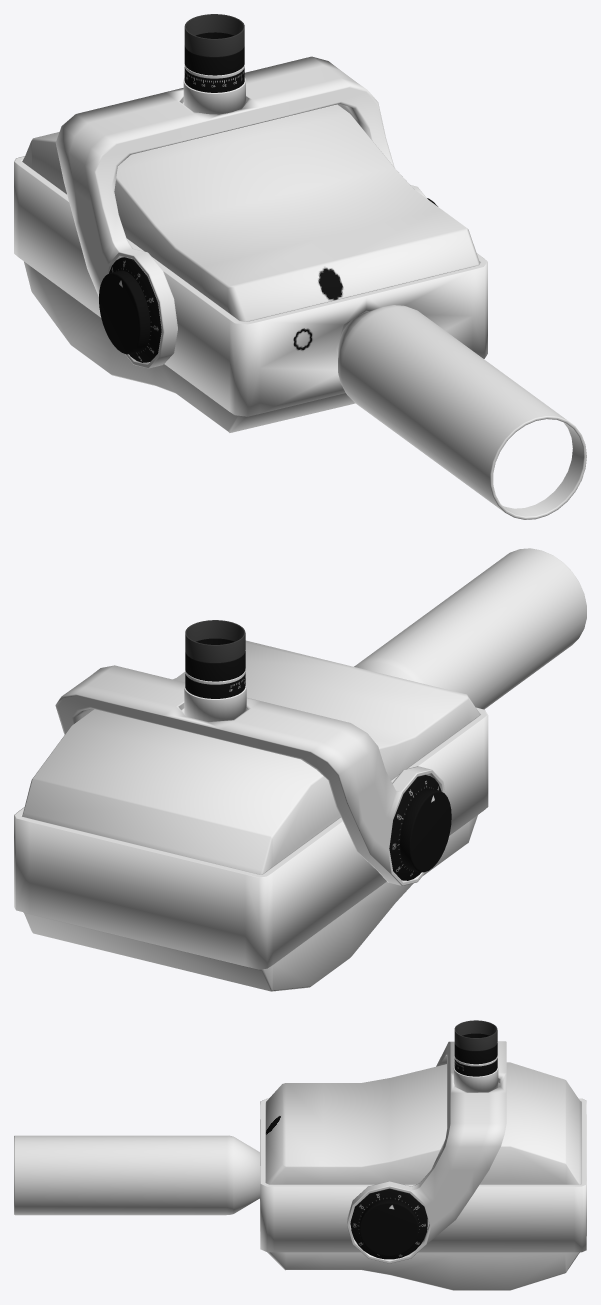
The model's file is x_ray.gltf.
3 renders of one model, top to bottom at view 1: azimuth 30°, elevation 25°; view 2: azimuth 150°, elevation 25°; view 3: azimuth 270°, elevation 25°, orthographic. The views are drawn at different scales.
Parts seen in each view (by area): view 1: hainuo_dental_xray_unit_fixer7, hainuo_dental_xray_unit_fixer10, hainuo_dental_xray_unit_fixer11, hainuo_dental_xray_unit_fixer9, hainuo_dental_xray_unit_regulator2, hainuo_dental_xray_unit_fixer13, hainuo_dental_xray_unit_fixer14, hainuo_dental_xray_unit_fixer13.1; view 2: hainuo_dental_xray_unit_fixer7, hainuo_dental_xray_unit_fixer10, hainuo_dental_xray_unit_fixer11, hainuo_dental_xray_unit_fixer9, hainuo_dental_xray_unit_regulator2, hainuo_dental_xray_unit_fixer13, hainuo_dental_xray_unit_fixer14, hainuo_dental_xray_unit_fixer13.1; view 3: hainuo_dental_xray_unit_fixer7, hainuo_dental_xray_unit_fixer11, hainuo_dental_xray_unit_fixer10, hainuo_dental_xray_unit_fixer9, hainuo_dental_xray_unit_regulator, hainuo_dental_xray_unit_fixer13, hainuo_dental_xray_unit_fixer14, hainuo_dental_xray_unit_fixer13.1.
Part boxes in pixels (<box>): hainuo_dental_xray_unit_fixer7: <box>22,104,479,432</box>; hainuo_dental_xray_unit_fixer10: <box>14,156,487,416</box>; hainuo_dental_xray_unit_fixer11: <box>338,305,586,519</box>; hainuo_dental_xray_unit_fixer9: <box>55,56,427,368</box>; hainuo_dental_xray_unit_regulator2: <box>99,257,161,362</box>; hainuo_dental_xray_unit_fixer13: <box>184,32,244,92</box>; hainuo_dental_xray_unit_fixer14: <box>184,14,244,56</box>; hainuo_dental_xray_unit_fixer13.1: <box>183,64,245,114</box>; hainuo_dental_xray_unit_fixer7: <box>22,640,479,991</box>; hainuo_dental_xray_unit_fixer10: <box>14,707,488,969</box>; hainuo_dental_xray_unit_fixer11: <box>354,548,586,709</box>; hainuo_dental_xray_unit_fixer9: <box>55,665,445,885</box>; hainuo_dental_xray_unit_regulator2: <box>389,775,451,880</box>; hainuo_dental_xray_unit_fixer13: <box>185,638,245,698</box>; hainuo_dental_xray_unit_fixer14: <box>185,620,245,662</box>; hainuo_dental_xray_unit_fixer13.1: <box>184,669,246,721</box>; hainuo_dental_xray_unit_fixer7: <box>265,1062,581,1290</box>; hainuo_dental_xray_unit_fixer11: <box>14,1135,260,1215</box>; hainuo_dental_xray_unit_fixer10: <box>260,1098,586,1252</box>; hainuo_dental_xray_unit_fixer9: <box>347,1041,506,1263</box>; hainuo_dental_xray_unit_regulator: <box>350,1188,427,1259</box>; hainuo_dental_xray_unit_fixer13: <box>454,1033,497,1076</box>; hainuo_dental_xray_unit_fixer14: <box>454,1020,497,1050</box>; hainuo_dental_xray_unit_fixer13.1: <box>453,1056,498,1092</box>.
Size of the model in its own units: 16.83 by 15.86 by 37.5.
Materials: 4 (2 with a texture image).
